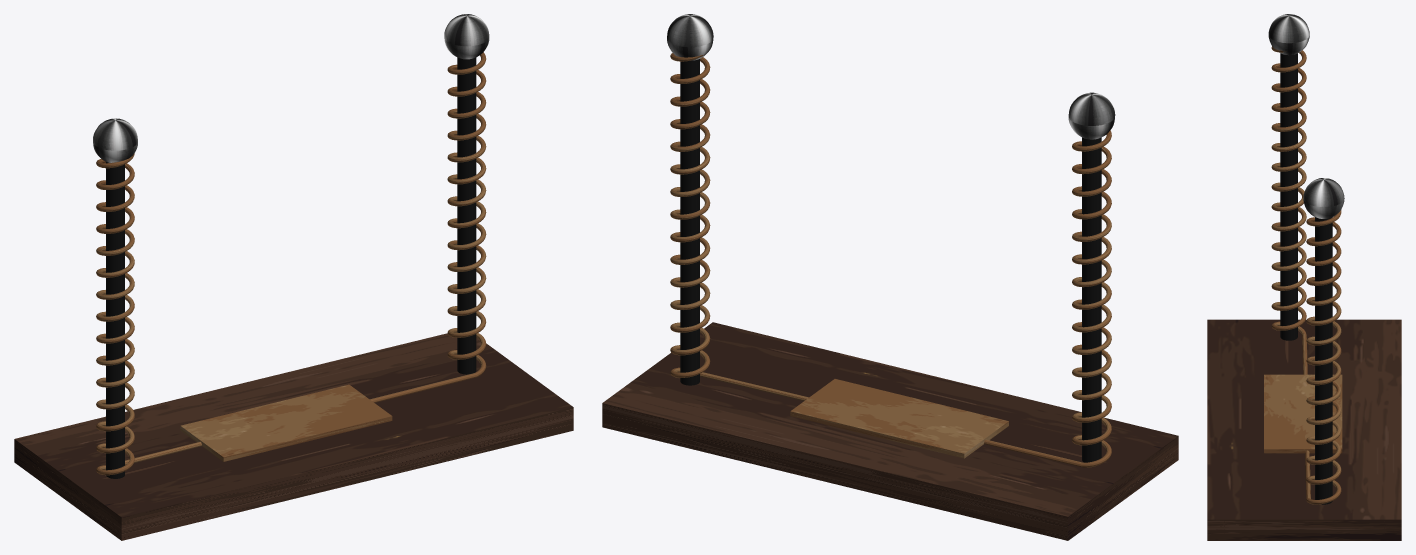
File: teslacoil.fbx
3 views of the same model, side by side, from view 1: azimuth 30°, elevation 25°; view 2: azimuth 150°, elevation 25°; view 3: azimuth 270°, elevation 25° (orthographic). The views are drawn at different scales.
Visible parts, largest first — view 1: pCube1, pHelix3, pCube2, pCylinder2, pCylinder1, pSphere2, pSphere1; view 2: pCube1, pHelix3, pCube2, pCylinder2, pCylinder1, pSphere1, pSphere2; view 3: pCube1, pHelix3, pCube2, pCylinder1, pCylinder2, pSphere2, pSphere1.
Part boxes in pixels (left/top/right/bottom): pCube1: left=14, top=333, right=573, bottom=540; pHelix3: left=96, top=52, right=486, bottom=475; pCube2: left=180, top=384, right=392, bottom=461; pCylinder2: left=457, top=57, right=476, bottom=374; pCylinder1: left=106, top=162, right=124, bottom=478; pSphere2: left=444, top=14, right=489, bottom=59; pSphere1: left=93, top=118, right=137, bottom=162; pCube1: left=602, top=322, right=1178, bottom=540; pHelix3: left=670, top=53, right=1111, bottom=467; pCube2: left=790, top=379, right=1008, bottom=458; pCylinder2: left=680, top=59, right=699, bottom=385; pCylinder1: left=1082, top=137, right=1101, bottom=462; pSphere1: left=1068, top=92, right=1115, bottom=139; pSphere2: left=667, top=14, right=713, bottom=60; pCube1: left=1207, top=319, right=1401, bottom=540; pHelix3: left=1271, top=46, right=1341, bottom=504; pCube2: left=1264, top=374, right=1342, bottom=453; pCylinder1: left=1280, top=53, right=1297, bottom=340; pCylinder2: left=1315, top=217, right=1332, bottom=504; pSphere2: left=1303, top=178, right=1344, bottom=218; pSphere1: left=1268, top=14, right=1309, bottom=55.
Bounding box in the file's own units: 20.13 × 16.08 × 8.28.
